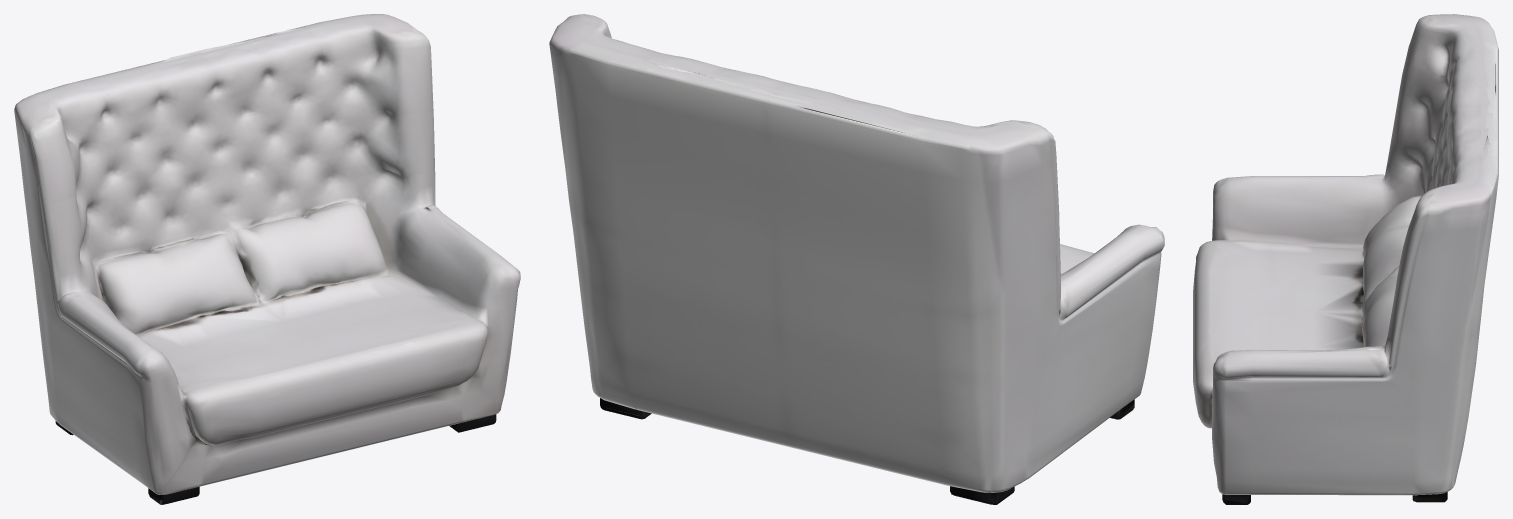
Rendered from Loveseat_White_Monach_46InchTall_0222190911_texture.glb.
3 views of the same model, side by side, from view 1: azimuth 30°, elevation 25°; view 2: azimuth 150°, elevation 25°; view 3: azimuth 270°, elevation 25° (orthographic). The views are drawn at different scales.
Parts seen in each view (by area): view 1: Mesh_0.001; view 2: Mesh_0.001; view 3: Mesh_0.001.
Part boxes in pixels (x1,y1,x2,y2): Mesh_0.001: (14,14,520,504); Mesh_0.001: (549,14,1164,504); Mesh_0.001: (1193,14,1498,504).
Bounding box in the file's own units: 1.54 × 1.17 × 1.02.
Materials: 1 (1 with a texture image).
